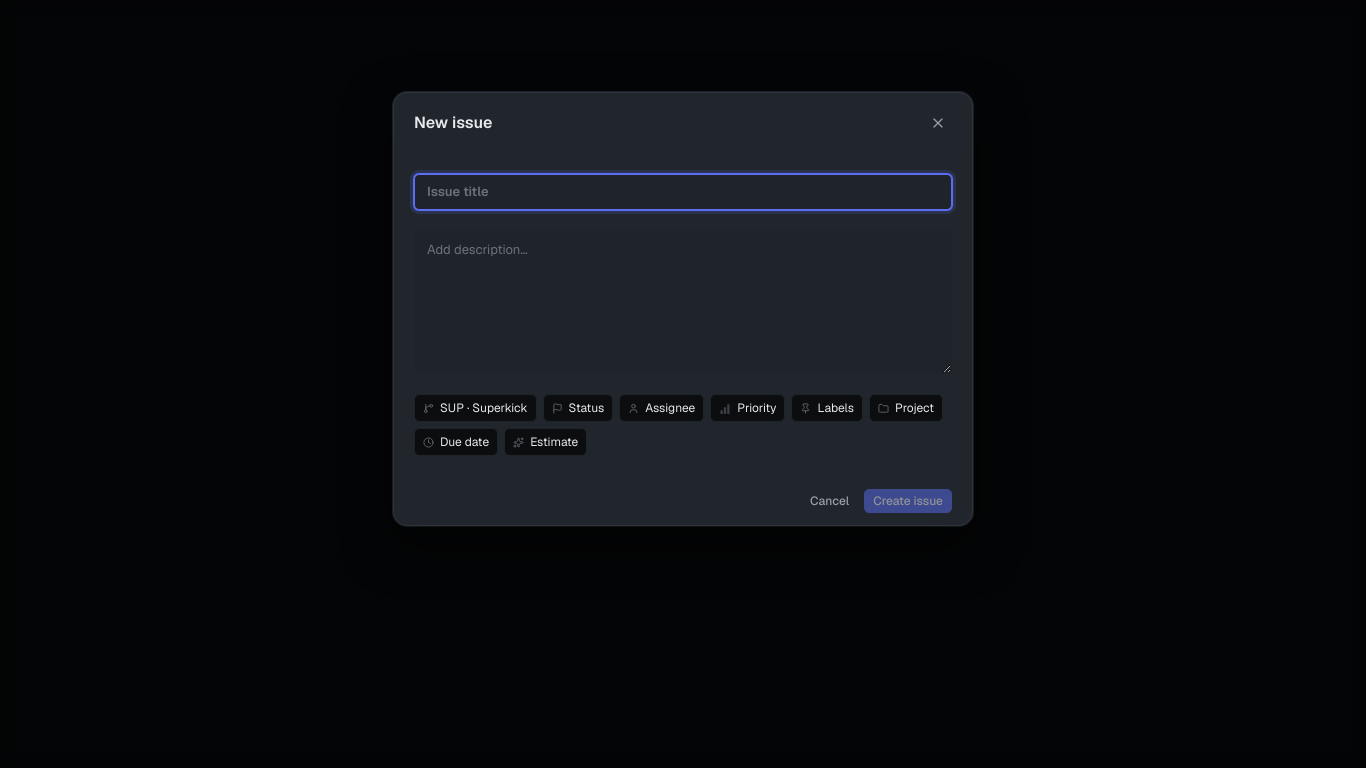
Test case: NewIssueDialog › disables create until a title is entered
Expected: the button "Create issue" is disabled, [864,490,952,514]
Type "Fix the thing" into the field labelled "Issue title". click: [683, 192]
box: [414,174,952,210]
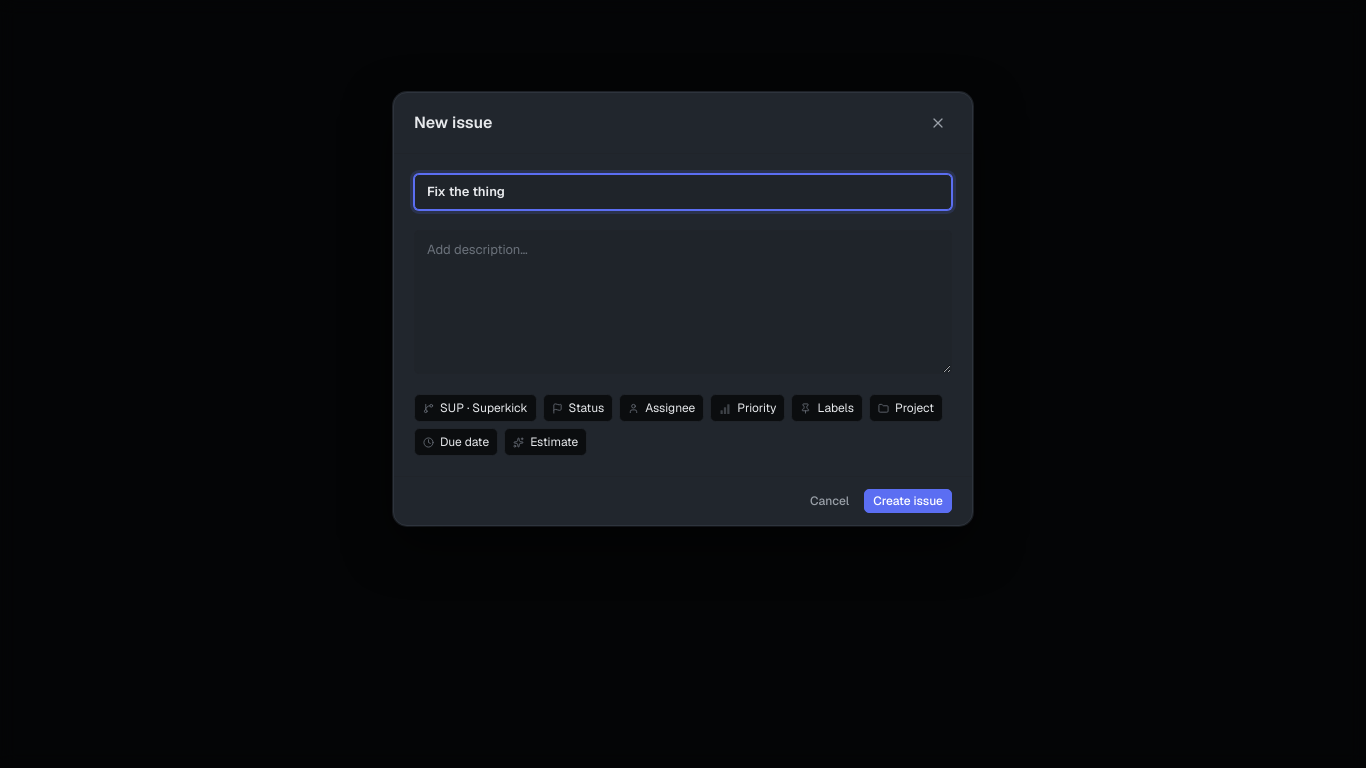
Result: the button "Create issue" is enabled at [864,490,952,514]
